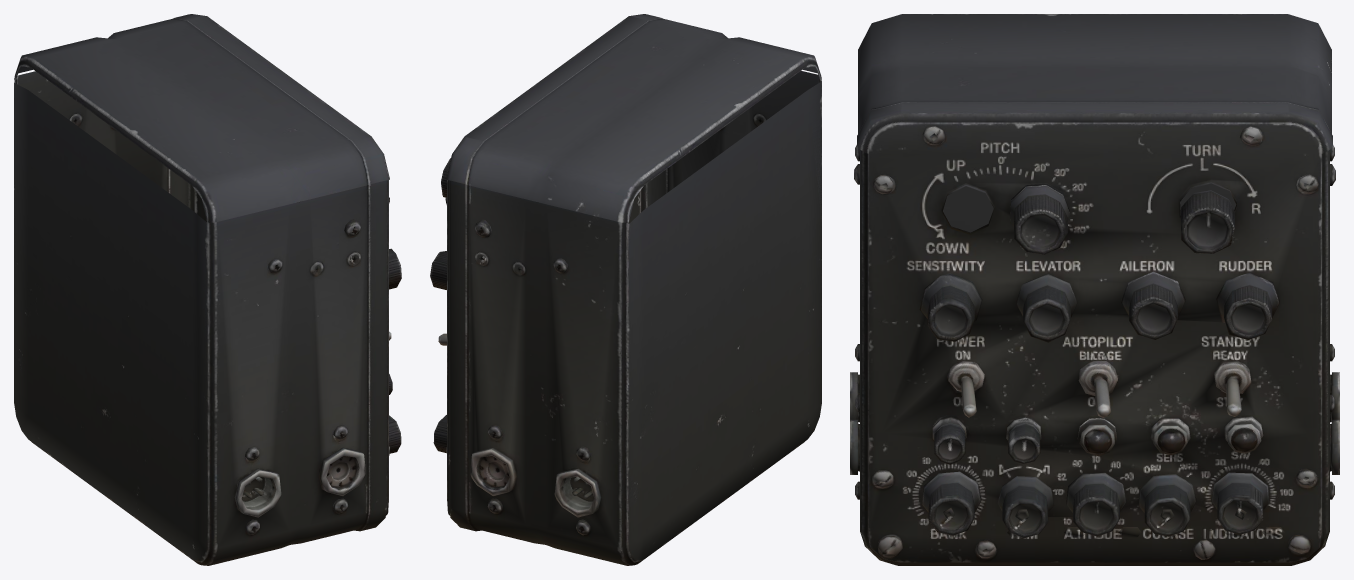
The model's file is ck_c1_remesh.glb.
3 views of the same model, side by side, from view 1: azimuth 30°, elevation 25°; view 2: azimuth 150°, elevation 25°; view 3: azimuth 270°, elevation 25° (orthographic). The views are drawn at different scales.
Parts seen in each view (by area): view 1: tripo_node_8e8b6a56-554f-4d98-bc96-51244; view 2: tripo_node_8e8b6a56-554f-4d98-bc96-51244; view 3: tripo_node_8e8b6a56-554f-4d98-bc96-51244.
Part boxes in pixels (x1,y1,x2,y2): tripo_node_8e8b6a56-554f-4d98-bc96-51244: (14,14,401,565); tripo_node_8e8b6a56-554f-4d98-bc96-51244: (430,14,821,565); tripo_node_8e8b6a56-554f-4d98-bc96-51244: (850,14,1339,565).
Bounding box in the file's own units: 0.6125 × 1 × 0.9765.
Materials: 1 (1 with a texture image).
